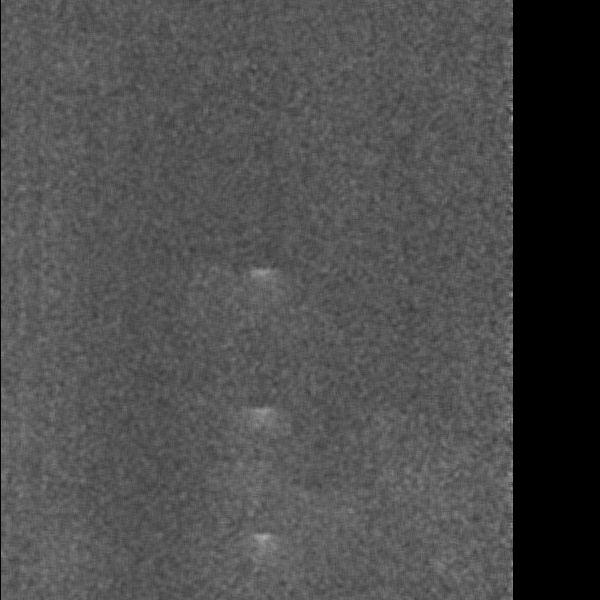spark: (243, 527, 281, 566), (236, 402, 281, 433), (245, 262, 275, 296)
